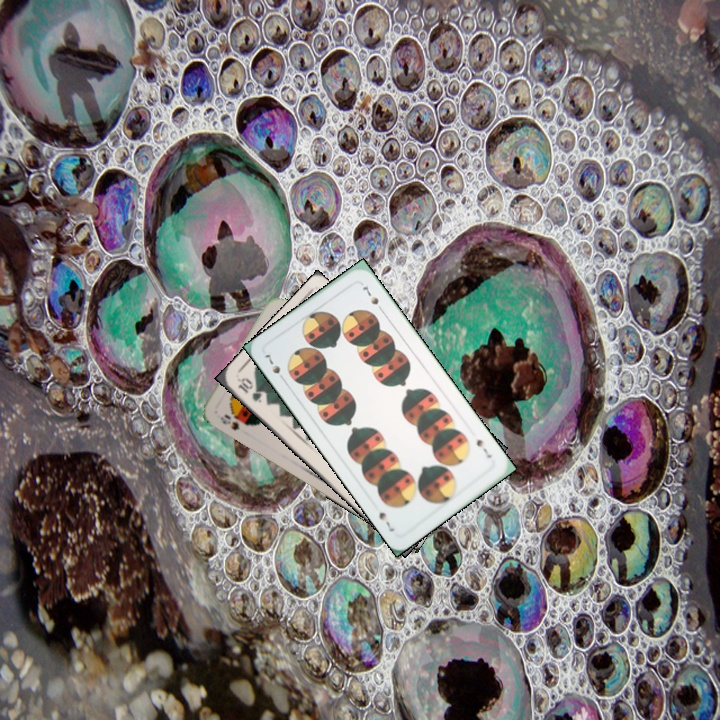G10: (233, 374, 264, 405)
S7: (261, 350, 289, 385), (472, 433, 494, 461)
SO: (216, 410, 251, 433)
